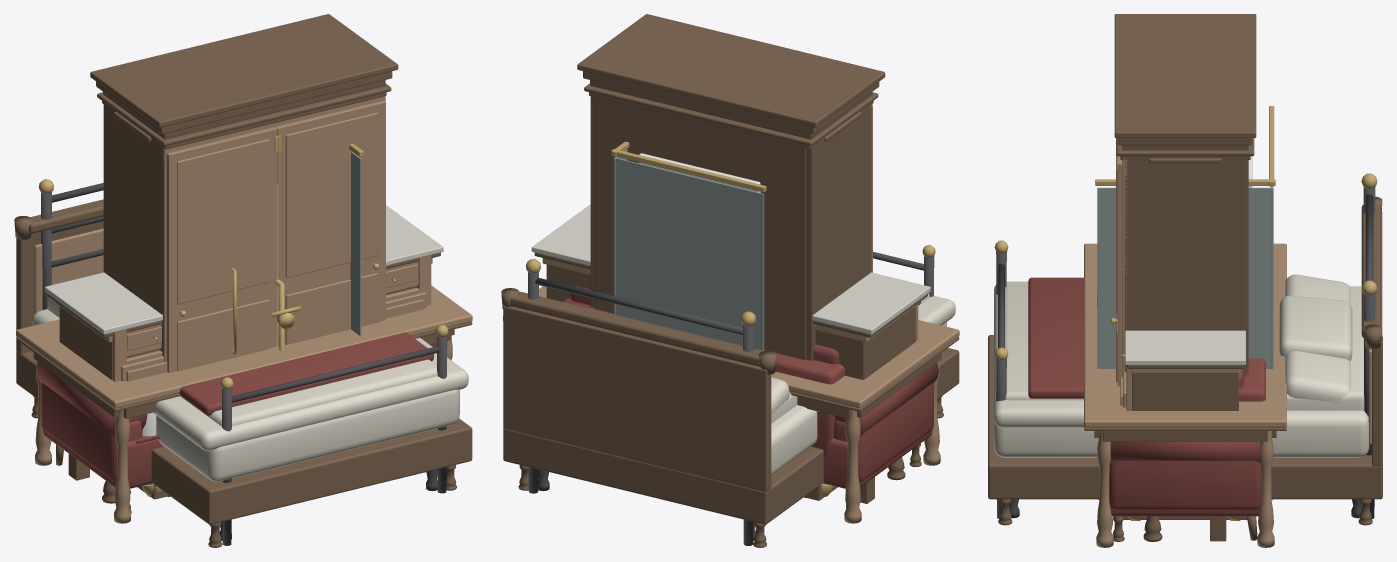
The model's file is furniture.glb.
3 renders of one model, left to right at view 1: azimuth 30°, elevation 25°; view 2: azimuth 150°, elevation 25°; view 3: azimuth 270°, elevation 25°, orthographic.
Visible parts, largest first — view 1: bed, armoire_body, armoire_door_right, armoire_door_left, iron_bed, aparador, dining_table, sofa, bookshelf, wardrobe, shower; view 2: bed, armoire_body, shower, aparador, sofa, dining_table, iron_bed, wardrobe, fridge; view 3: armoire_body, bed, iron_bed, dining_table, sofa, bookshelf, aparador, shower, armoire_door_left, wardrobe.
Boxes of the visible parts, box(x1,y1,x2,y2) form: bed: box(14, 199, 472, 547); armoire_body: box(90, 14, 398, 496); armoire_door_right: box(166, 127, 277, 372); armoire_door_left: box(276, 100, 385, 346); iron_bed: box(38, 179, 448, 545); aparador: box(44, 205, 443, 503); dining_table: box(16, 285, 472, 523); sofa: box(36, 341, 451, 513); bookshelf: box(113, 112, 151, 302); wardrobe: box(97, 84, 391, 149); shower: box(270, 144, 363, 350); bed: box(501, 288, 959, 547); armoire_body: box(577, 14, 885, 497); shower: box(611, 141, 766, 350); aparador: box(531, 204, 930, 503); sofa: box(562, 286, 938, 508); dining_table: box(503, 286, 959, 523); iron_bed: box(526, 245, 935, 545); wardrobe: box(584, 83, 878, 359); fridge: box(638, 153, 760, 192); armoire_body: box(1114, 14, 1256, 377); bed: box(988, 196, 1382, 525); iron_bed: box(994, 173, 1377, 518); dining_table: box(1084, 243, 1286, 547); sofa: box(1109, 358, 1265, 541); bookshelf: box(1149, 158, 1221, 330); aparador: box(1120, 330, 1245, 541); shower: box(1095, 106, 1275, 500); armoire_door_left: box(1110, 138, 1122, 386); wardrobe: box(1116, 138, 1254, 159).
Bounding box in the file's own units: 2.2 × 2.25 × 2.06.
